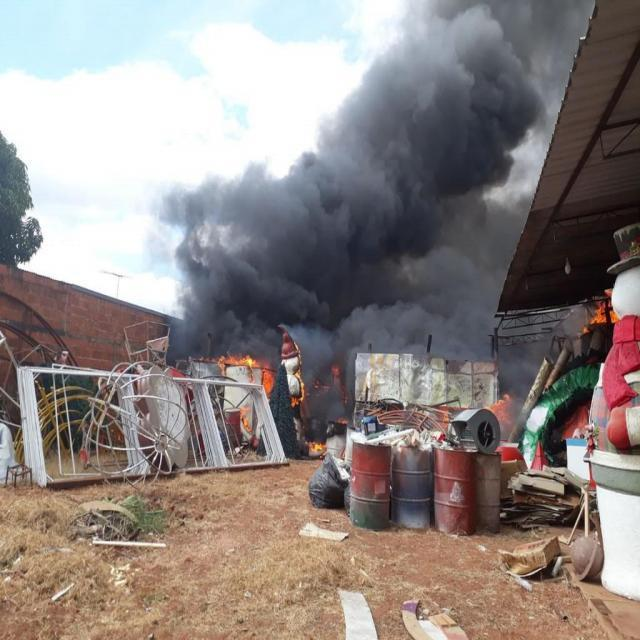Fire: (583, 293, 617, 332), (216, 351, 256, 371), (486, 394, 514, 418), (258, 358, 273, 392), (240, 410, 255, 432), (308, 438, 328, 454)
